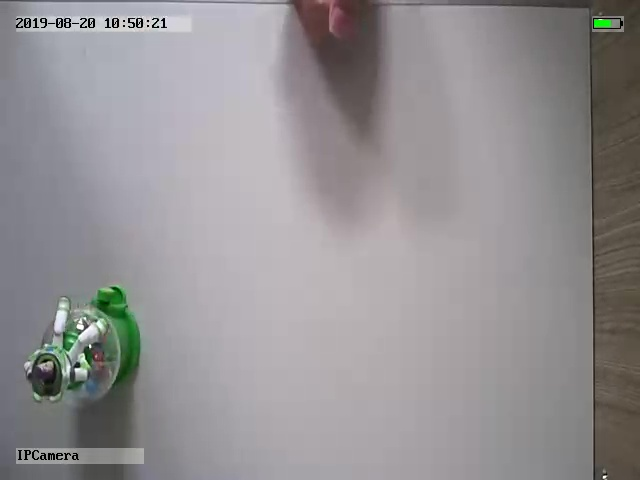buzz: (22, 283, 143, 404)
